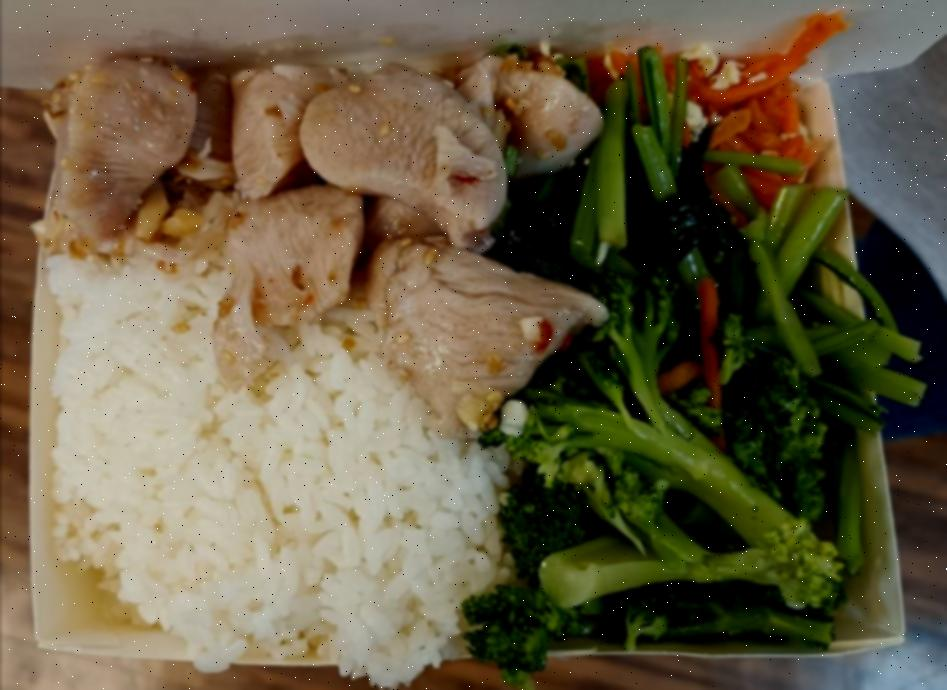box: (11, 67, 920, 677)
scallion chicken: (48, 49, 600, 430)
side dish: (486, 46, 923, 424), (465, 277, 834, 656), (603, 37, 820, 213)
white rice: (39, 237, 508, 682)
